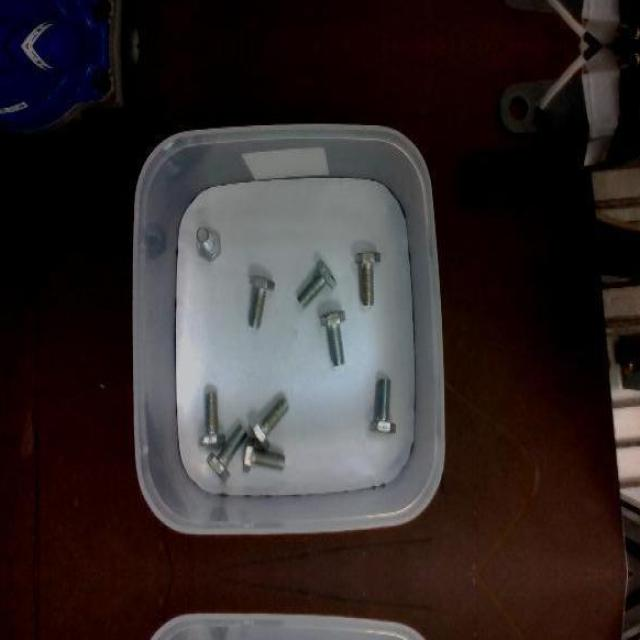screw: (206, 424, 248, 484), (248, 396, 290, 450), (297, 258, 338, 308), (247, 274, 275, 329), (244, 436, 286, 472), (198, 390, 225, 446), (320, 308, 346, 365), (371, 378, 397, 433), (355, 250, 381, 304), (197, 224, 221, 261)
